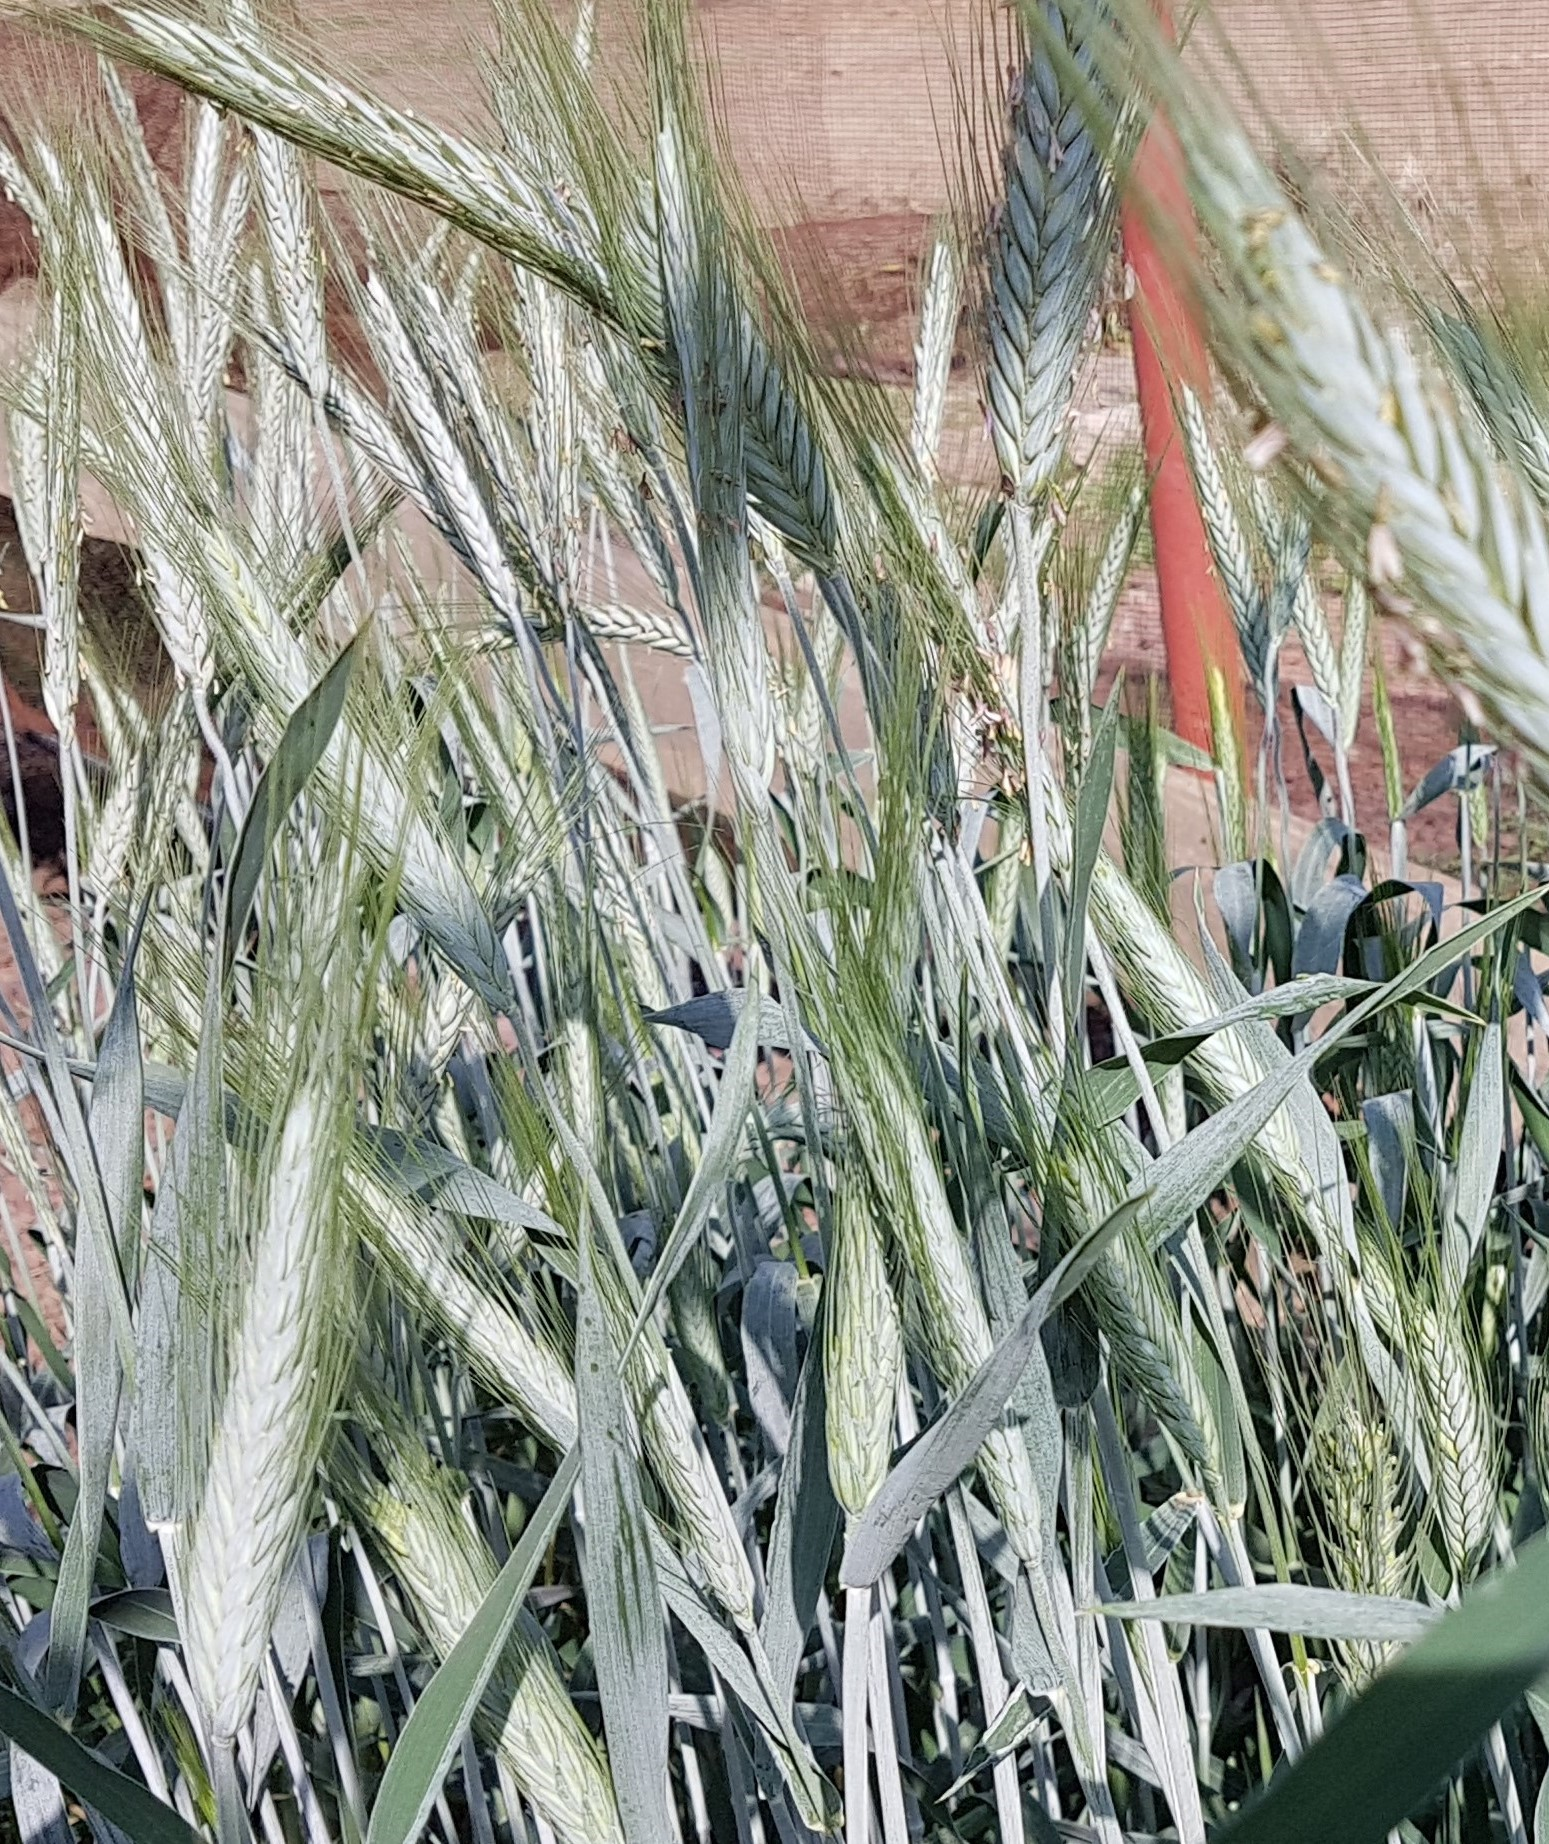Healthy Wheat: (151, 1053, 375, 1720), (970, 2, 1136, 483), (1388, 1279, 1538, 1547)
